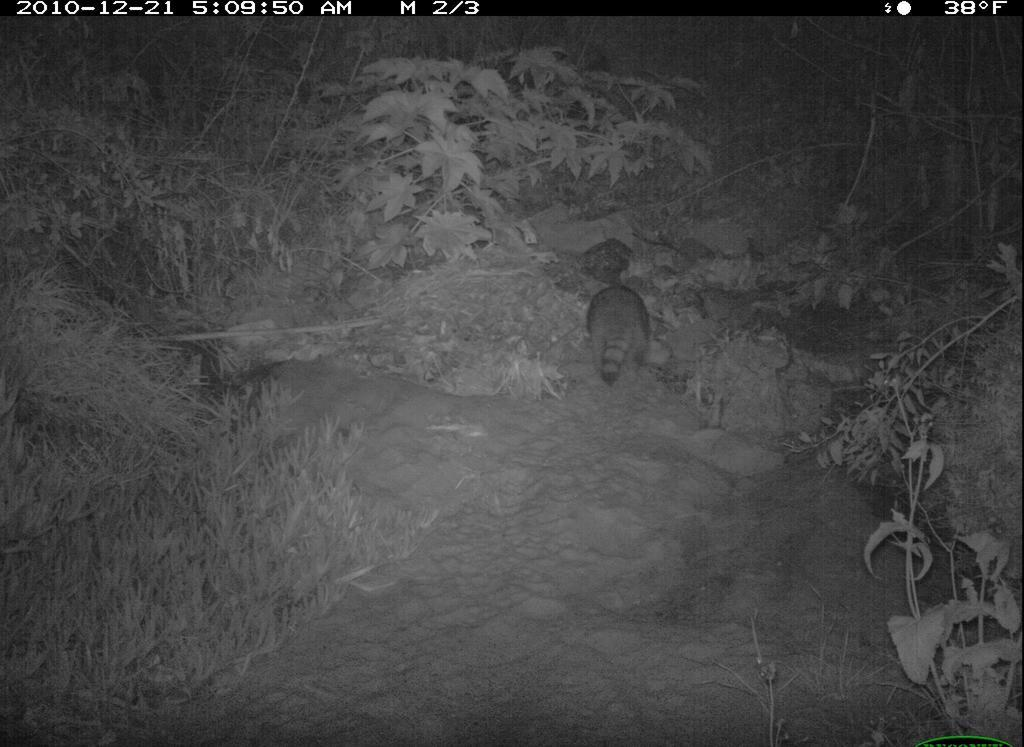raccoon: (566, 280, 669, 391)
